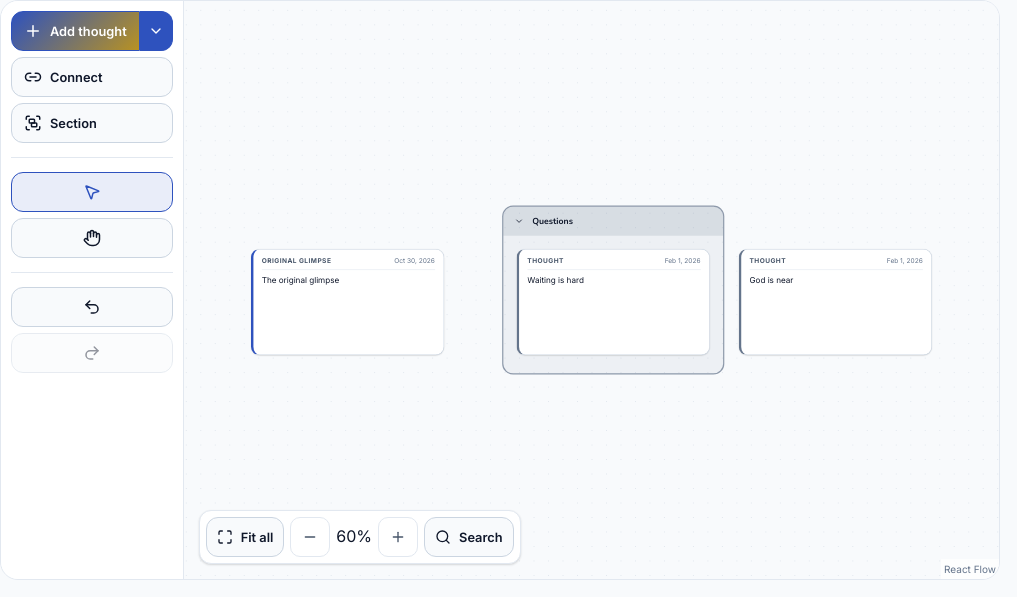
Test: sections › collapses and expands a section from its header, hiding and showing its cards
The image size is (1017, 597).
Click the button named "Collapse section Questions": (519,221) [509,212,528,231]
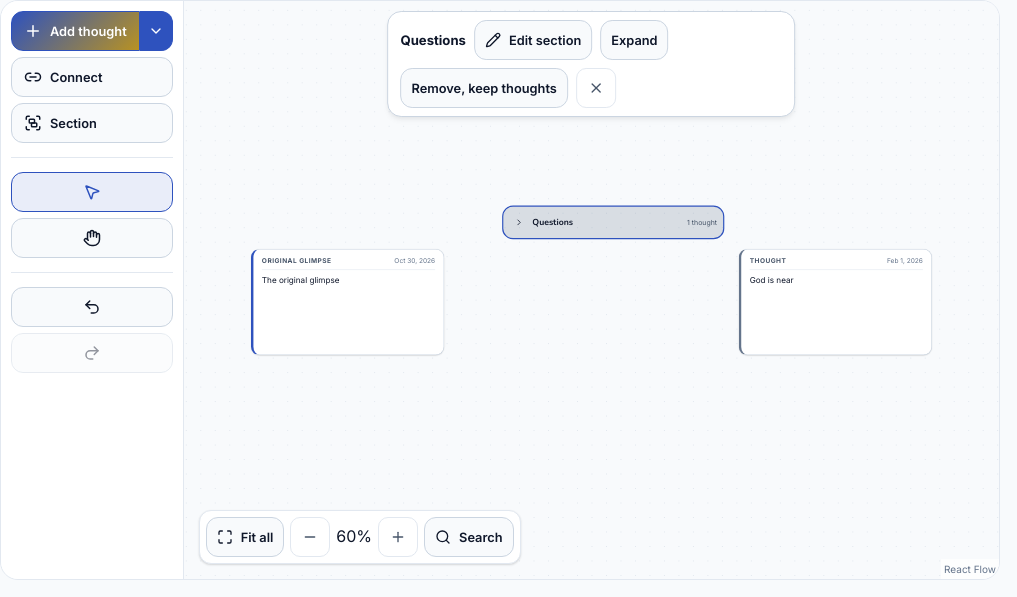
Result: the text "Waiting is hard" is gone
Result: the text "1 thought" is shown at [687,217,717,228]
Click the button named "Expand section Questions": (519,222) [509,213,528,232]
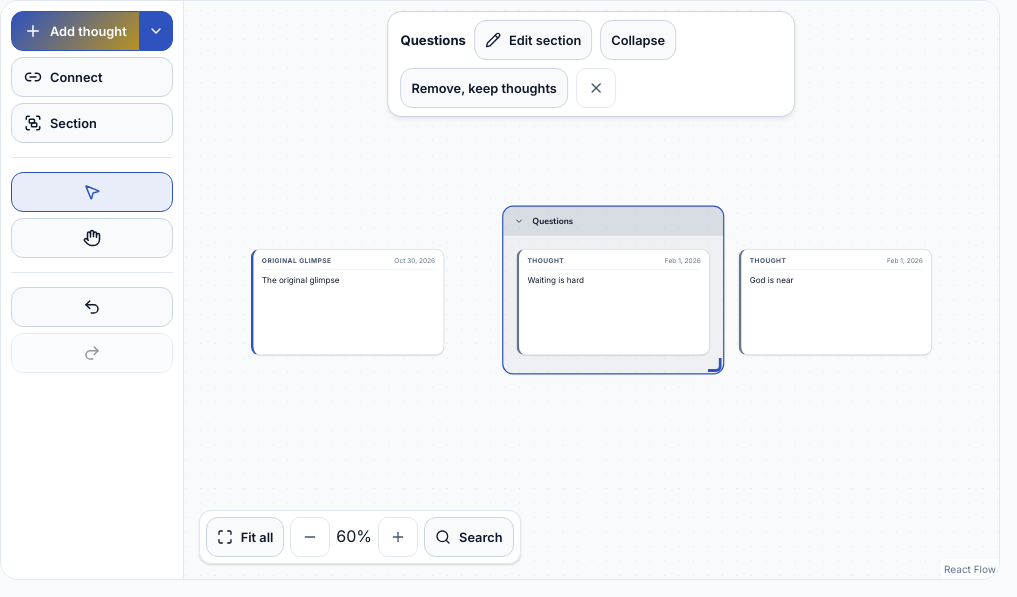
Result: the text "Waiting is hard" is shown at [527,275,584,285]
